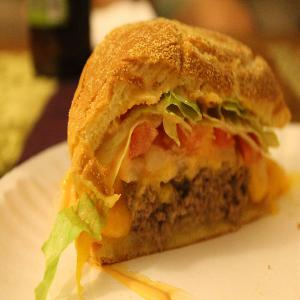cheeseburger: (66, 17, 294, 266)
